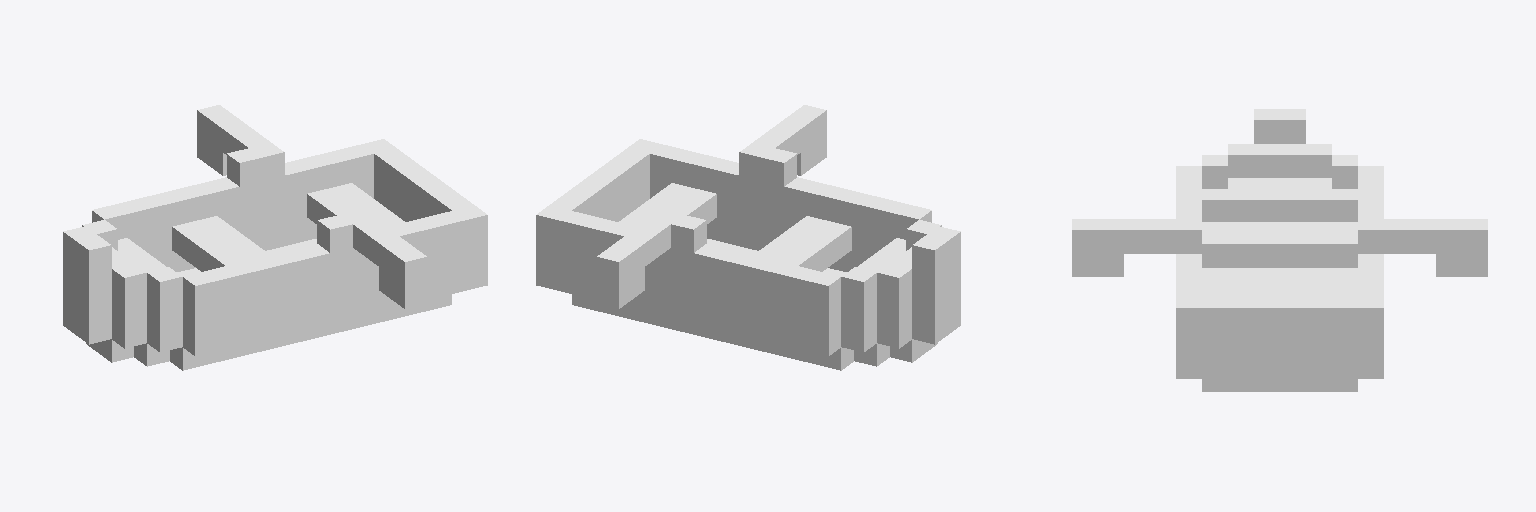
The model's file is boat.obj.
3 renders of one model, left to right at view 1: azimuth 30°, elevation 25°; view 2: azimuth 150°, elevation 25°; view 3: azimuth 270°, elevation 25°, orthographic.
Visible parts, largest first — view 1: boat; view 2: boat; view 3: boat.
Part boxes in pixels (x1,y1,x2,y2): boat: (63,105,487,370); boat: (536,105,960,370); boat: (1072,109,1487,391).
Bounding box in the file's own units: 16 × 5 × 16.